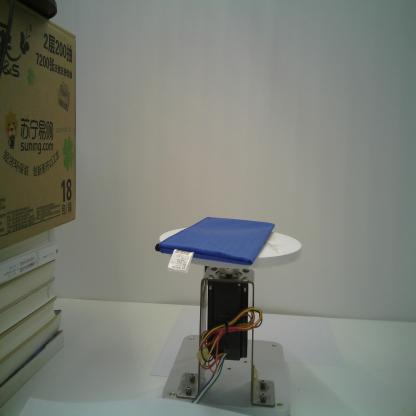Stationery: (154, 216, 276, 267)
